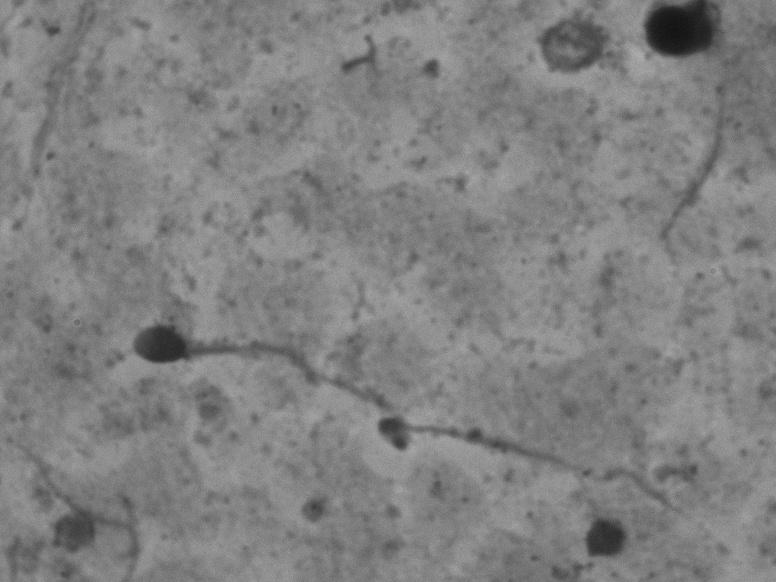Normal: (117, 311, 721, 550)
